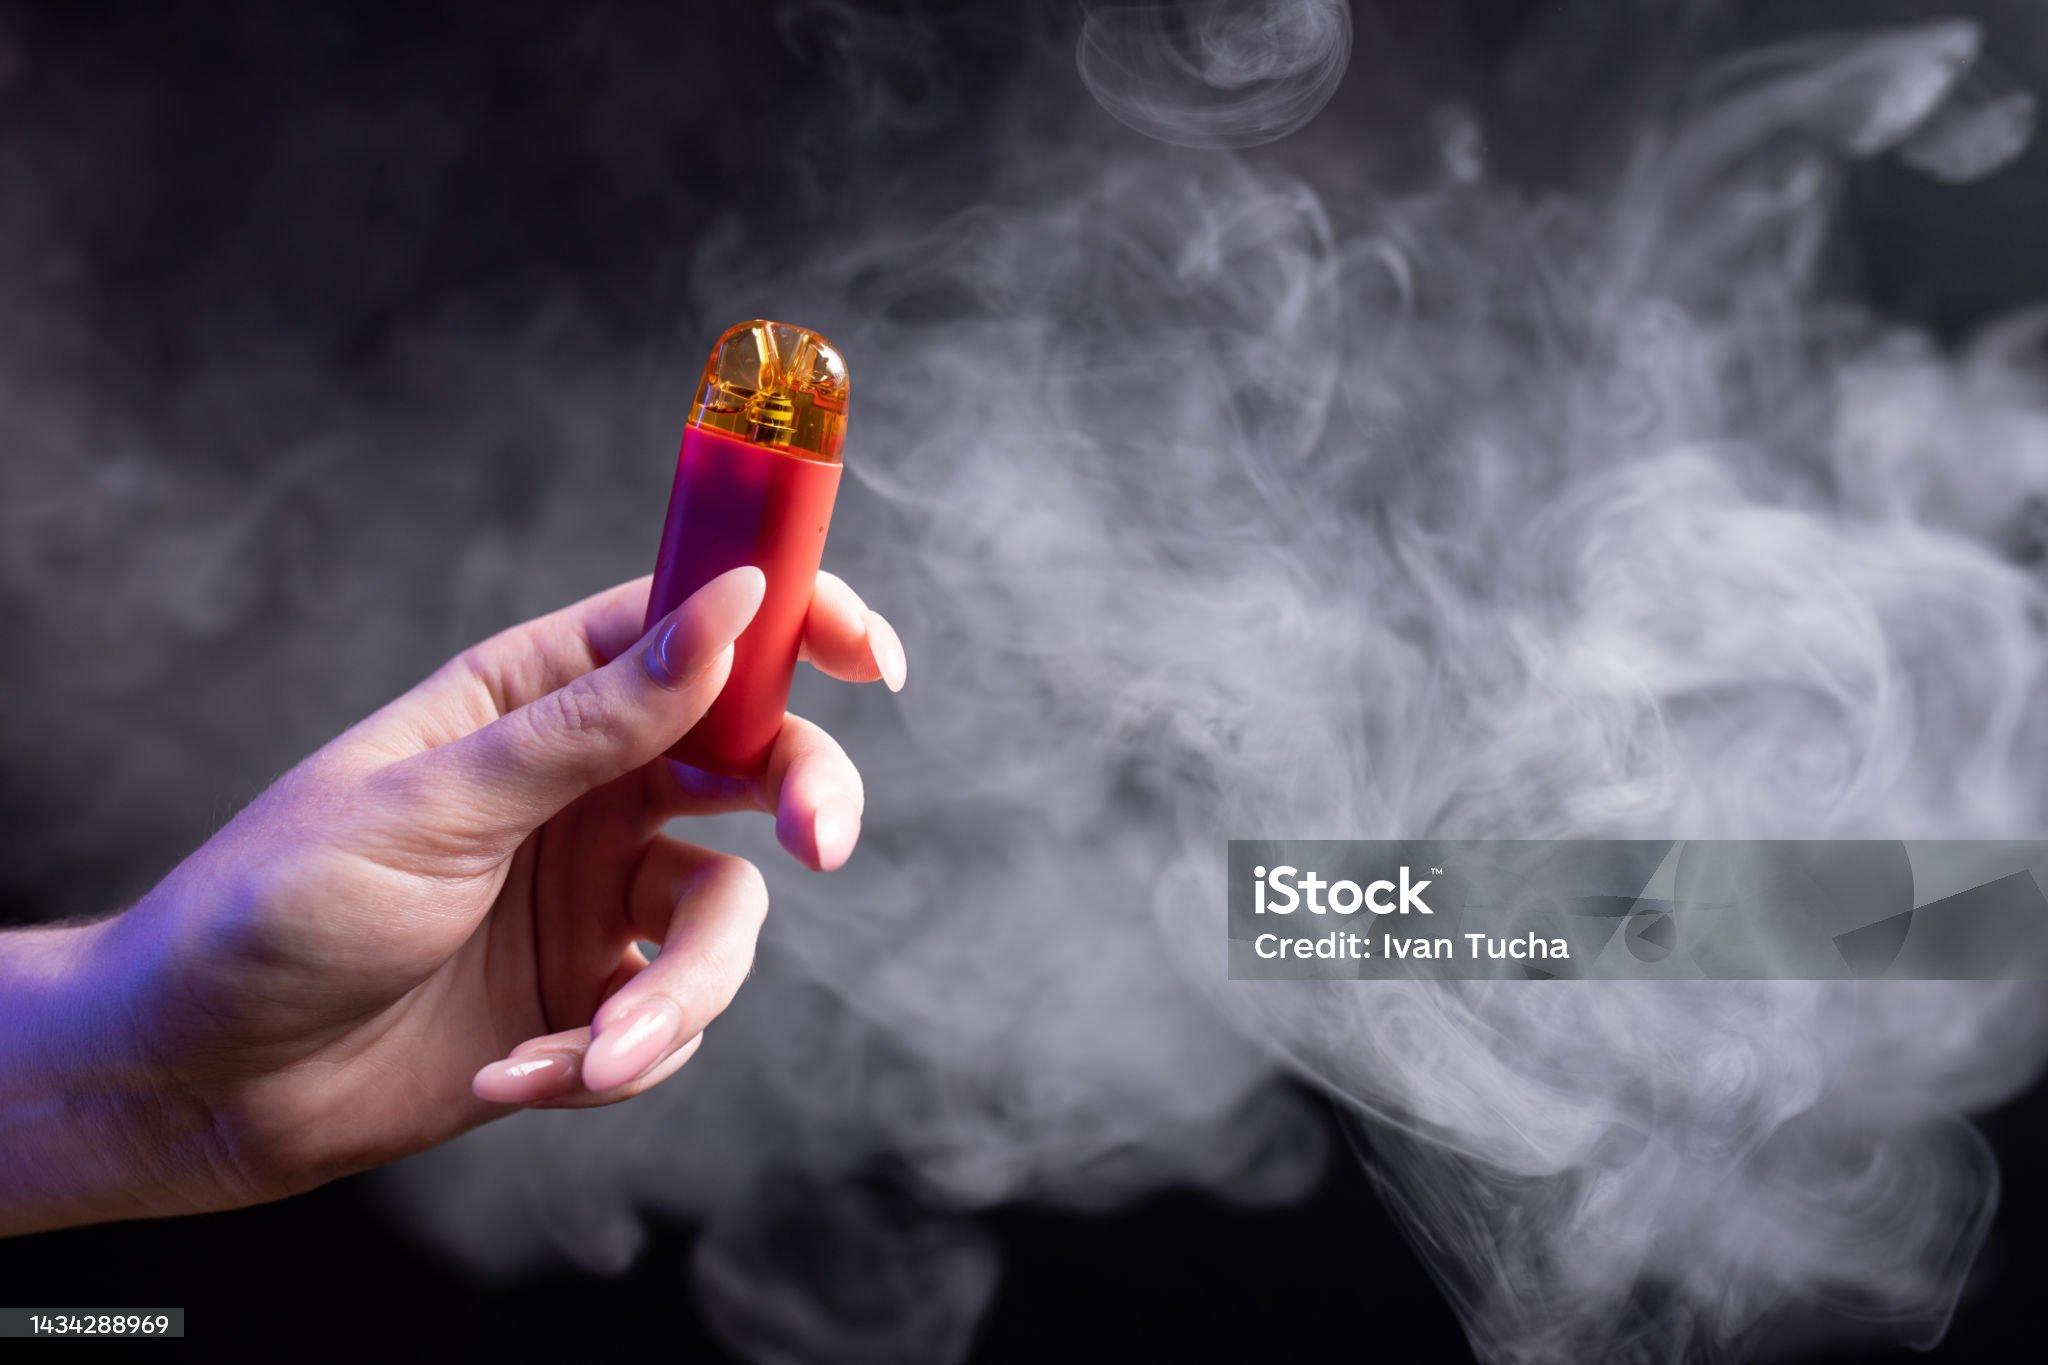Vape: (643, 320, 850, 769)
